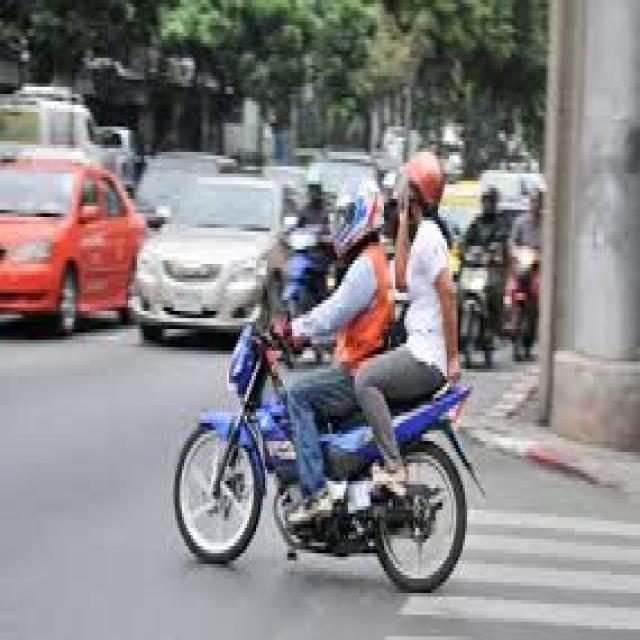bodaboda: (136, 240, 495, 630)
